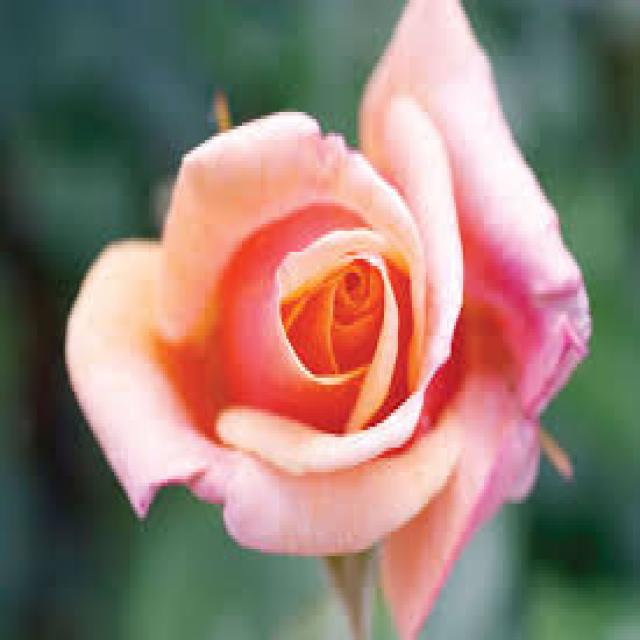rose: (55, 54, 598, 562)
